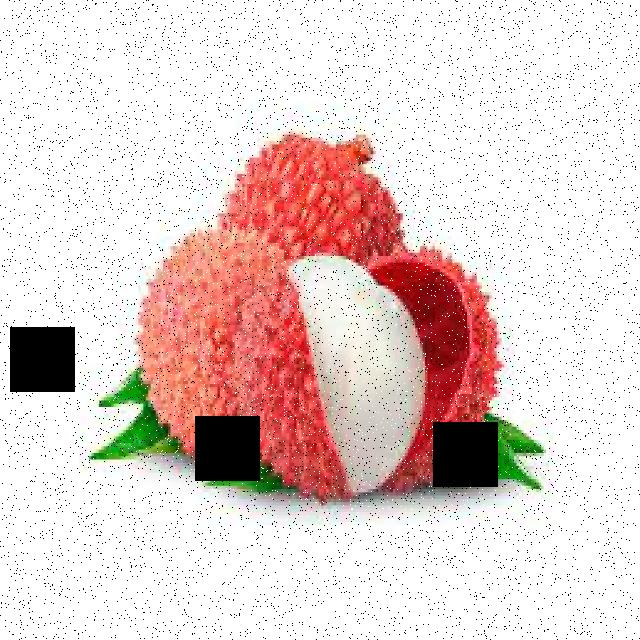lychee: (155, 130, 470, 483)
